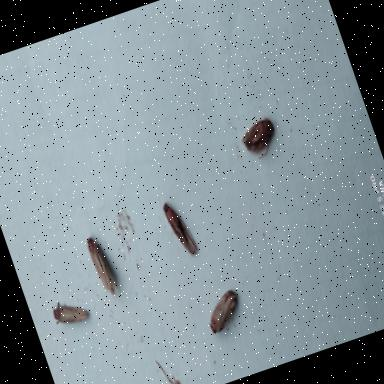pbw: (153, 190, 206, 267), (76, 228, 125, 306), (195, 282, 250, 344), (232, 108, 288, 168), (42, 286, 97, 342)
